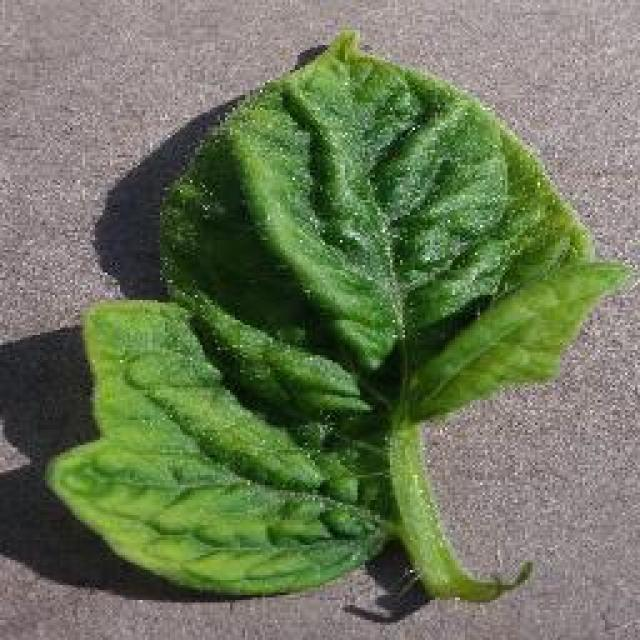Tomato yellow virus leaf: (42, 31, 630, 594)
